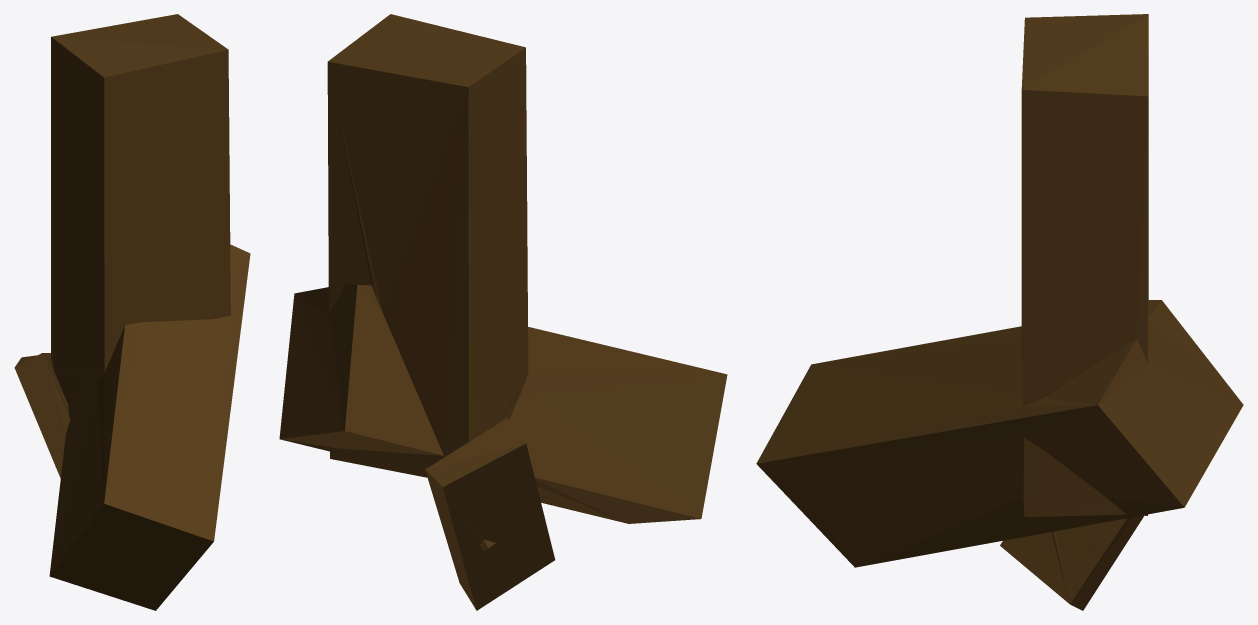
The picture shows the model from 3 angles, left to right: view 1: azimuth 30°, elevation 25°; view 2: azimuth 150°, elevation 25°; view 3: azimuth 270°, elevation 25°; orthographic projection. The views are drawn at different scales.
Visible parts, largest first — view 1: 657_Cube.2638; view 2: 657_Cube.2638; view 3: 657_Cube.2638.
Boxes of the visible parts, x1,y1,x2,y2 form: 657_Cube.2638: (14, 14, 250, 610); 657_Cube.2638: (279, 14, 727, 610); 657_Cube.2638: (756, 14, 1243, 610).
Size of the model in its own units: 9.97 by 16.67 by 12.58.
